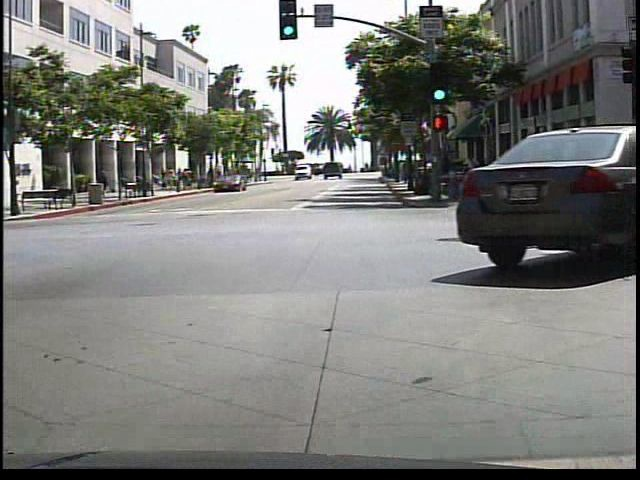person: (95, 161, 113, 196)
